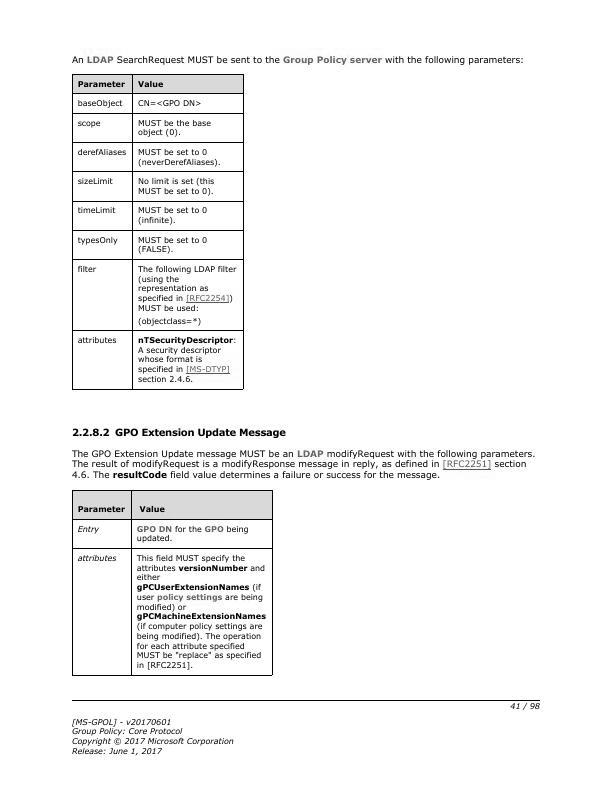table: (72, 74, 245, 390), (72, 491, 274, 677)
text: (70, 446, 536, 481), (69, 714, 237, 756), (69, 53, 526, 67), (68, 424, 287, 438)
